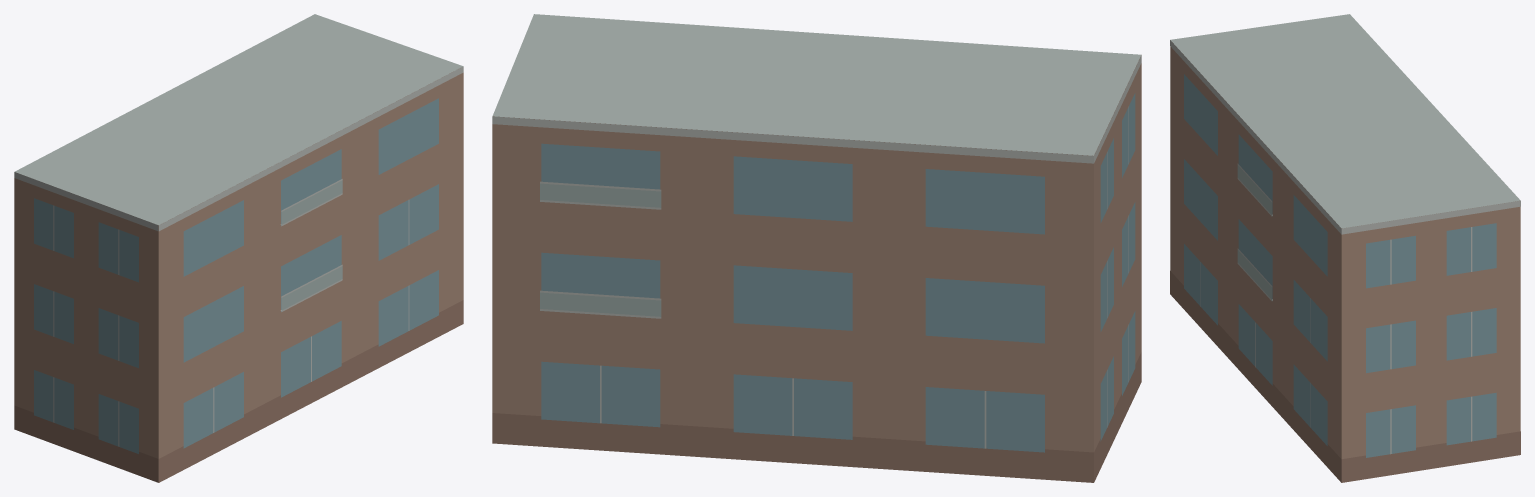
Rendered from survey-upis-32840506.glb.
3 renders of one model, left to right at view 1: azimuth 30°, elevation 25°; view 2: azimuth 150°, elevation 25°; view 3: azimuth 270°, elevation 25°, orthographic. The views are drawn at different scales.
Visible parts, largest first — view 1: survey-upis-32840506.tmp; view 2: survey-upis-32840506.tmp; view 3: survey-upis-32840506.tmp.
Part boxes in pixels (left/top/right/bottom): survey-upis-32840506.tmp: left=14, top=14, right=463, bottom=482; survey-upis-32840506.tmp: left=492, top=14, right=1141, bottom=482; survey-upis-32840506.tmp: left=1170, top=14, right=1520, bottom=482.
Size of the model in its own units: 18.46 by 10.2 by 12.75.
